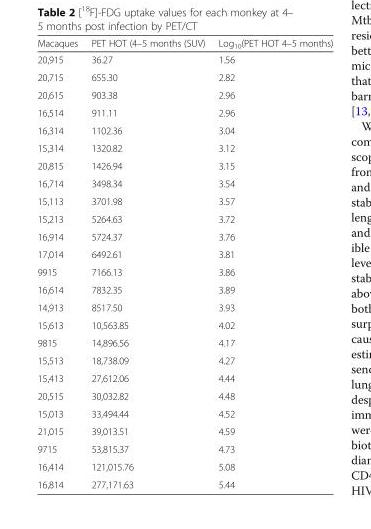table: (36, 36, 332, 489)
table column: (83, 36, 211, 489), (211, 36, 332, 489), (36, 36, 83, 489)
table column header: (36, 36, 332, 51)
table row: (36, 85, 332, 103), (36, 103, 332, 121), (36, 138, 332, 156), (36, 156, 332, 174), (36, 174, 332, 192), (36, 209, 332, 227), (36, 227, 332, 245), (36, 262, 332, 280), (36, 280, 332, 298), (36, 315, 332, 333), (36, 333, 332, 351), (36, 351, 332, 369), (36, 386, 332, 404), (36, 404, 332, 422), (36, 439, 332, 457), (36, 457, 332, 475), (36, 51, 332, 68), (36, 68, 332, 85), (36, 121, 332, 138), (36, 192, 332, 209), (36, 245, 332, 262), (36, 298, 332, 315), (36, 369, 332, 386), (36, 422, 332, 439), (36, 36, 332, 51), (36, 475, 332, 489)
